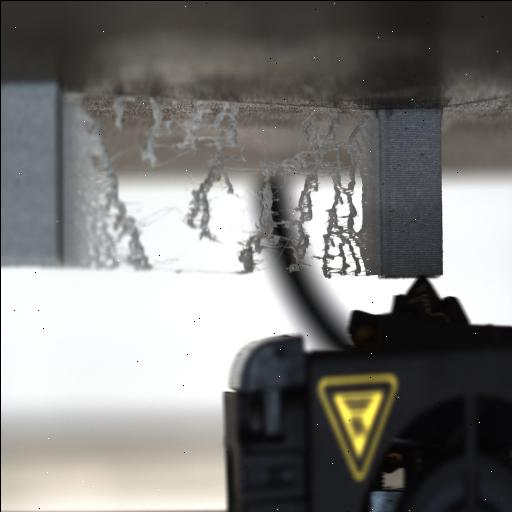stringing: (79, 97, 345, 279)
